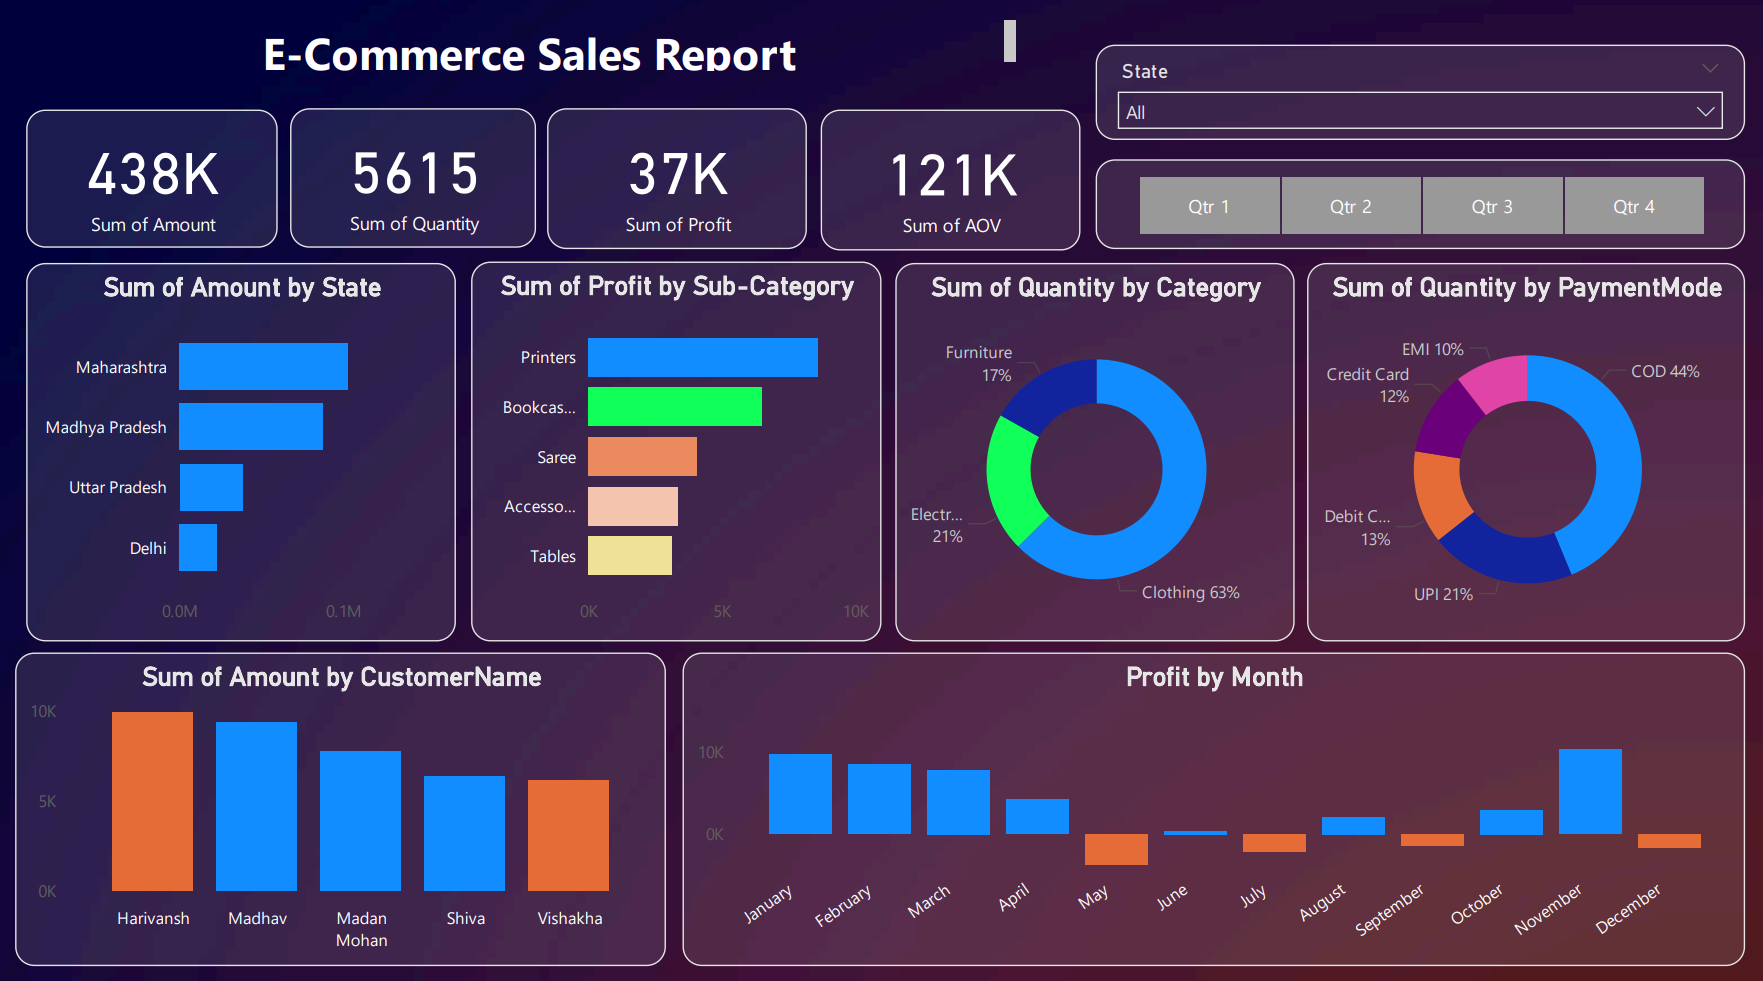

The page's visual inventory and layout, read from the dashboard file:
{"tool":"powerbi","page":{"name":"Page 1","canvas":[1280,720],"ordinal":0},"visuals":[{"type":"textbox","box":[35.7,14.8,706.5,46.8],"z":0},{"type":"columnChart","title":"Profit by Month","fields":{"Y":["Details.Profit"],"Category":["Orders.Order Date.Variation.Date Hierarchy.Month"]},"box":[495.6,477.8,769.1,227.7],"z":1000},{"type":"barChart","fields":{"Category":["Details.Sub-Category"],"Y":["Details.Profit"]},"box":[342.7,195.3,296.9,274.6],"z":2000},{"type":"donutChart","fields":{"Category":["Details.Category"],"Y":["Details.Quantity"]},"box":[649.8,195.7,289.2,274.5],"z":3000},{"type":"donutChart","fields":{"Category":["Details.PaymentMode"],"Y":["Details.Quantity"]},"box":[947.7,195.7,317.5,274.5],"z":4000},{"type":"card","fields":{"Values":["Details.Amount"]},"box":[21.2,84.8,182,100.5],"z":5000},{"type":"card","fields":{"Values":["Details.Quantity"]},"box":[212.1,83.7,177.5,101.6],"z":6000},{"type":"card","fields":{"Values":["Details.Profit"]},"box":[397.5,83.7,188.3,102.2],"z":7000},{"type":"card","fields":{"Values":["Details.AOV"]},"box":[595.7,84.9,188,102.2],"z":8000},{"type":"barChart","fields":{"Y":["Details.Amount"],"Category":["Orders.State"]},"box":[20.9,195.7,311.4,274.5],"z":9000},{"type":"columnChart","fields":{"Category":["Orders.CustomerName"],"Y":["Details.Amount"]},"box":[13.4,477.8,471.1,227.7],"z":10000},{"type":"slicer","fields":{"Values":["Orders.Order Date.Variation.Date Hierarchy.Quarter"]},"box":[795.1,120.6,470.2,65.2],"z":11000},{"type":"slicer","fields":{"Values":["Orders.State"]},"box":[795.1,38.2,470.2,68.9],"z":12000}]}

Visuals, with their boxes in screenshot pixels (x1, y1, x2, y2), scaled from the page's 1280x720 canvas onto the 1763x981 screenshot:
textbox: [49,20,1022,84]
"Profit by Month" columnChart: [683,651,1742,961]
barChart - Details.Sub-Category x Details.Profit: [472,266,881,640]
donutChart - Details.Category x Details.Quantity: [895,267,1293,641]
donutChart - Details.PaymentMode x Details.Quantity: [1305,267,1743,641]
card - Details.Amount: [29,116,280,252]
card - Details.Quantity: [292,114,537,252]
card - Details.Profit: [547,114,807,253]
card - Details.AOV: [820,116,1079,255]
barChart - Details.Amount x Orders.State: [29,267,458,641]
columnChart - Orders.CustomerName x Details.Amount: [18,651,667,961]
slicer - Orders.Order Date.Variation.Date Hierarchy.Quarter: [1095,164,1743,253]
slicer - Orders.State: [1095,52,1743,146]
